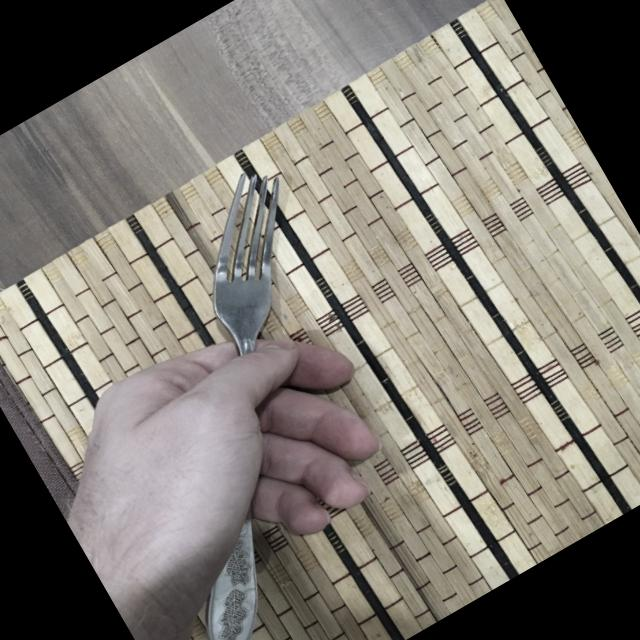fork: (17, 157, 478, 640)
